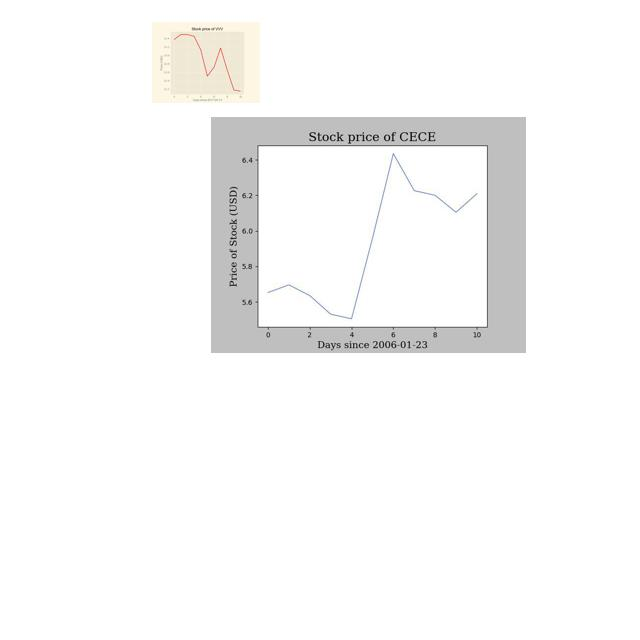Graph: (211, 117, 526, 353), (152, 22, 260, 103)
